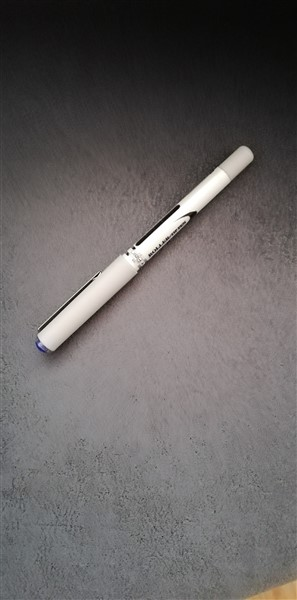pilot kalem: (32, 139, 262, 361)
